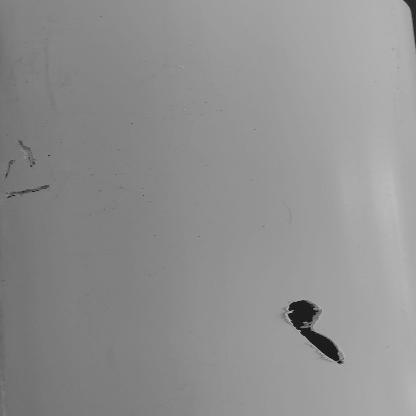fengxi: (3, 184, 52, 198), (19, 140, 40, 167), (1, 157, 14, 183)
kongdong: (282, 300, 344, 365)
